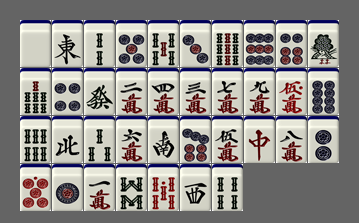0m: (276, 68, 307, 115)
0p: (20, 164, 51, 211)
0s: (148, 164, 179, 211)
1m: (84, 164, 115, 211)
1p: (52, 164, 83, 211)
1s: (308, 20, 339, 67)
1z: (52, 20, 83, 67)
2m: (116, 68, 147, 115)
2p: (308, 116, 339, 163)
2s: (84, 20, 115, 67)
2z: (148, 116, 179, 163)
3m: (180, 68, 211, 115)
3p: (180, 20, 211, 67)
3s: (84, 116, 115, 163)
3z: (180, 164, 211, 211)
4m: (148, 68, 179, 115)
4p: (52, 68, 83, 115)
4s: (212, 164, 243, 211)
4z: (52, 116, 83, 163)
5m: (212, 116, 243, 163)
5p: (116, 20, 147, 67)
5s: (148, 20, 179, 67)
5z: (20, 20, 51, 67)
6m: (116, 116, 147, 163)
6p: (276, 20, 307, 67)
6s: (20, 116, 51, 163)
6z: (84, 68, 115, 115)
7m: (212, 68, 243, 115)
7p: (180, 116, 211, 163)
7s: (20, 68, 51, 115)
7z: (244, 116, 275, 163)
8m: (276, 116, 307, 163)
8p: (308, 68, 339, 115)
8s: (116, 164, 147, 211)
9m: (244, 68, 275, 115)
9p: (244, 20, 275, 67)
9s: (212, 20, 243, 67)
